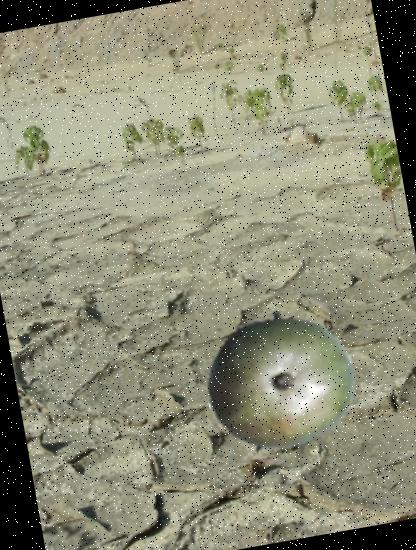Mango: (192, 292, 366, 466)
